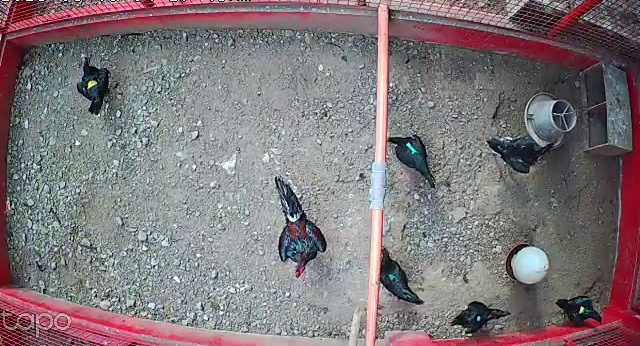Chicken: (483, 128, 554, 177), (373, 242, 426, 305), (387, 129, 438, 187), (446, 293, 512, 334), (74, 54, 116, 114), (549, 284, 603, 330)
Rooster: (263, 172, 325, 279)
Saddle_Color_Yellow: (84, 80, 100, 88)
Saddle_Color_YellowGreen: (579, 306, 589, 314)
